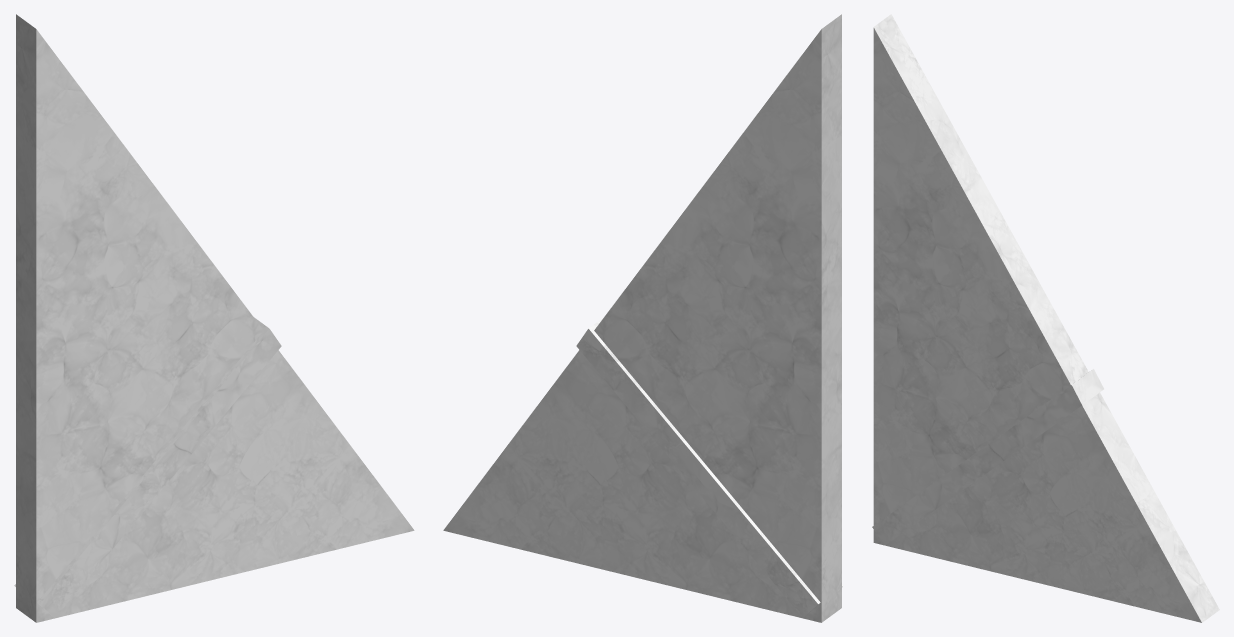
Rendered from ARC0110013.fbx.
3 renders of one model, left to right at view 1: azimuth 30°, elevation 25°; view 2: azimuth 150°, elevation 25°; view 3: azimuth 330°, elevation 25°, orthographic. The views are drawn at different scales.
Visible parts, largest first — view 1: smARC0110013; view 2: smARC0110013; view 3: smARC0110013.
Part boxes in pixels (x1=…): smARC0110013: x1=14, y1=14, x2=414, y2=622; smARC0110013: x1=443, y1=14, x2=843, y2=622; smARC0110013: x1=872, y1=14, x2=1219, y2=622.
Size of what is drawn, in the model's own units: 228 by 342 by 26.54.
1 material, 1 textured.
